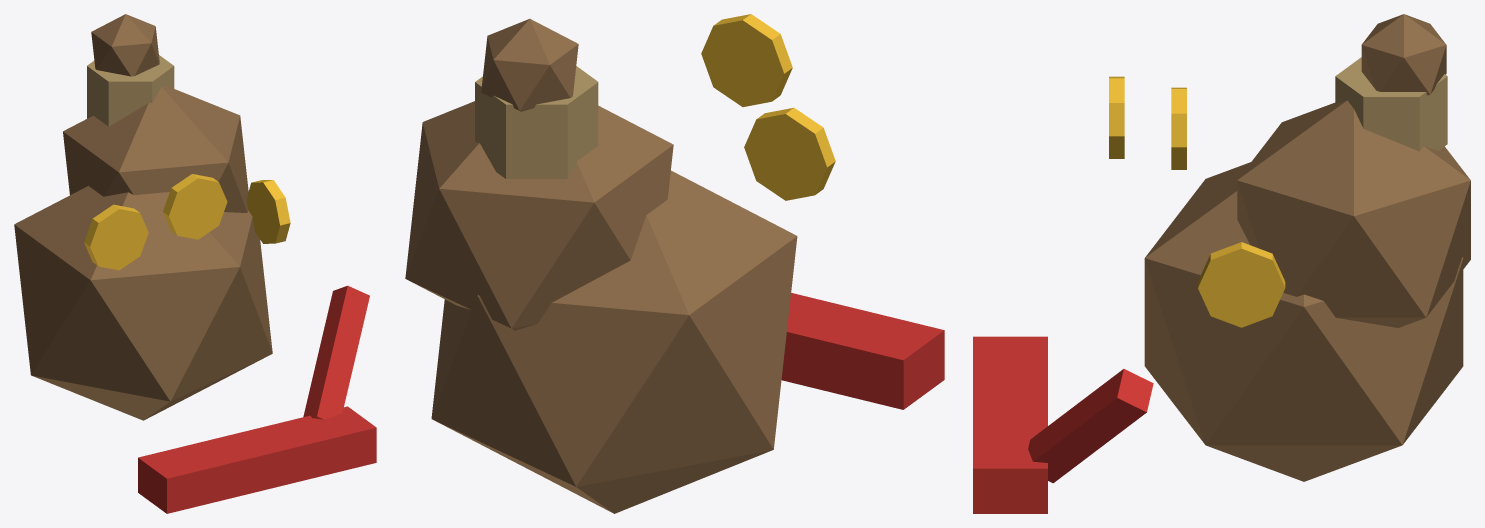
The model's file is ThiefSack.obj.
The picture shows the model from 3 angles, left to right: view 1: azimuth 30°, elevation 25°; view 2: azimuth 150°, elevation 25°; view 3: azimuth 270°, elevation 25°; orthographic projection. The views are drawn at different scales.
Visible parts, largest first — view 1: ThiefSack; view 2: ThiefSack; view 3: ThiefSack.
Boxes of the visible parts, x1,y1,x2,y2 form: ThiefSack: [14, 14, 376, 513]; ThiefSack: [405, 14, 944, 513]; ThiefSack: [973, 14, 1470, 513].
Bounding box in the file's own units: 0.6357 × 0.85 × 0.7971.
